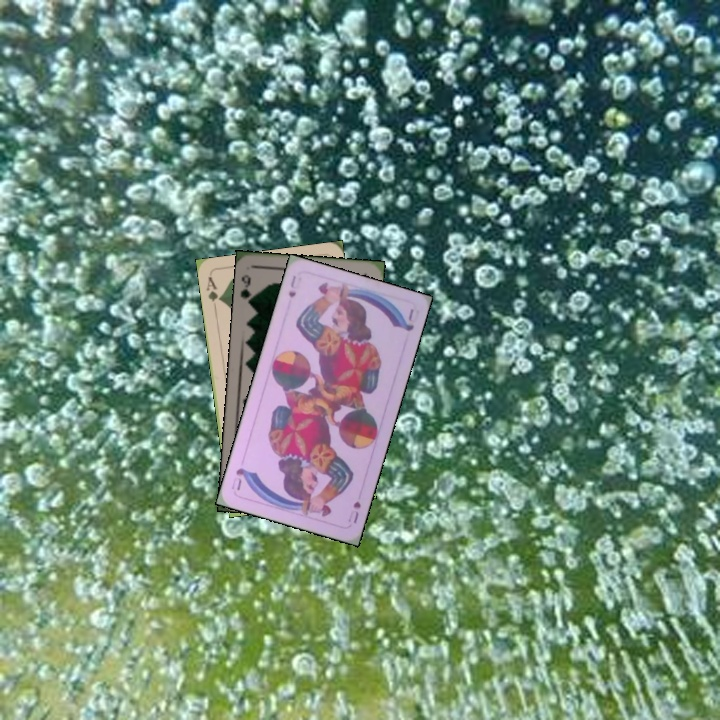G9: (236, 270, 256, 308)
GA: (202, 272, 224, 313)
SU: (284, 271, 301, 301), (349, 497, 363, 526)
